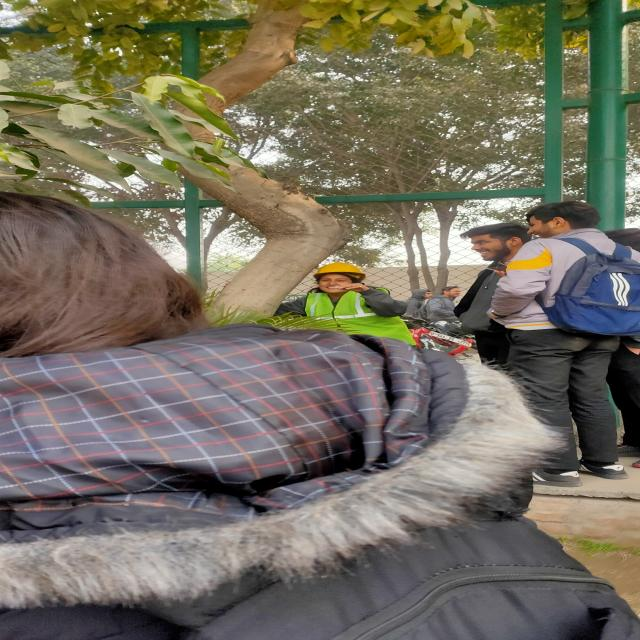safe: (273, 258, 439, 339)
unsafe: (524, 198, 638, 492), (464, 223, 532, 331)
